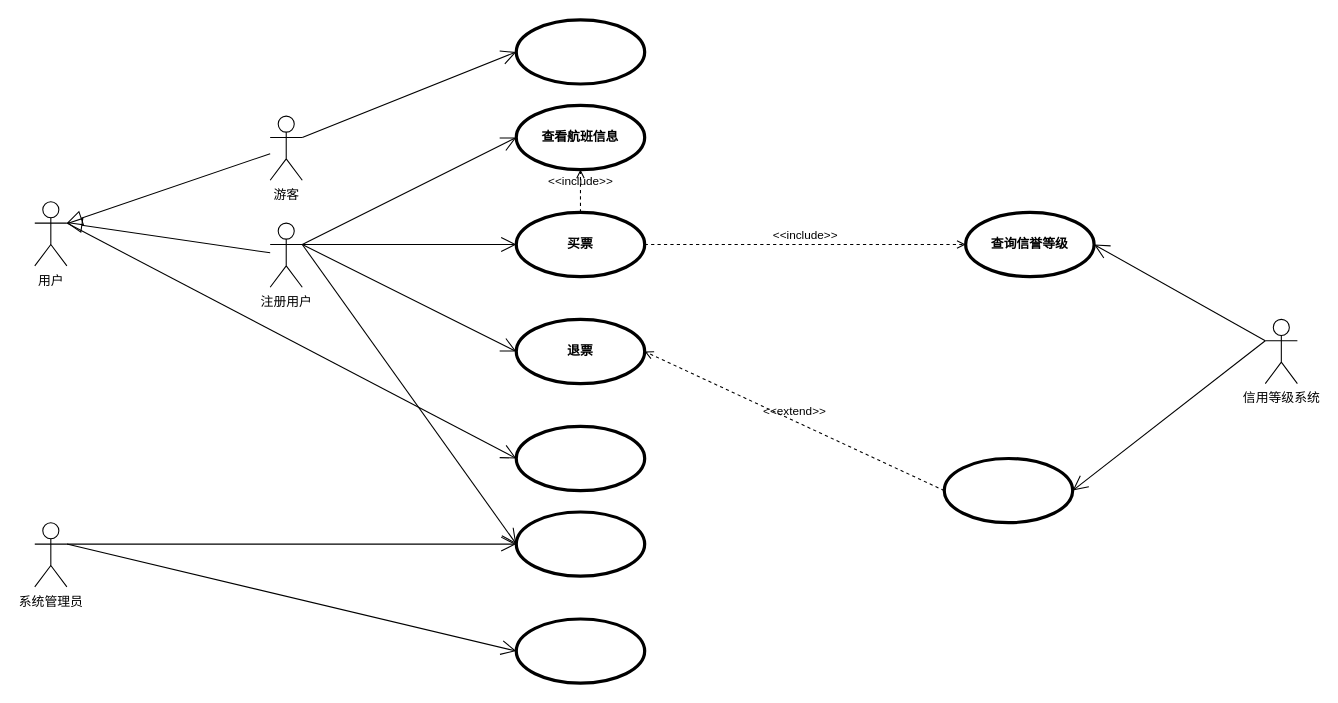
The diagram is 1338 pixels wide and 703 high, and some of its shapes have lost their labels. The centre of each missing label's shape, as x and y in pixels:
查看行程: point 580,458
注册: point 580,51
登录: point 580,543
设定航班: point 580,650
降低信用等级: point 1008,490
